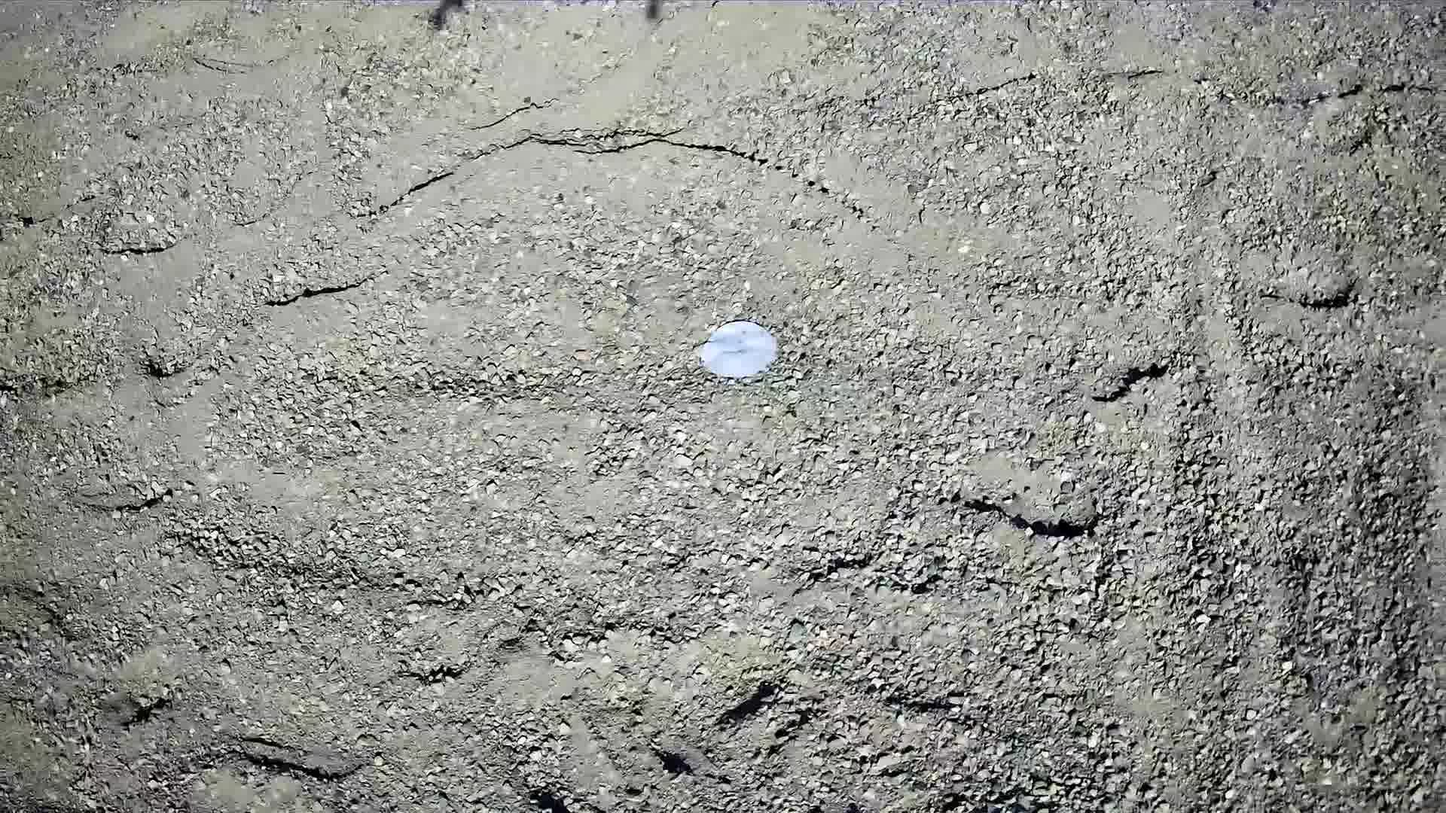Target: (695, 319, 779, 379)
